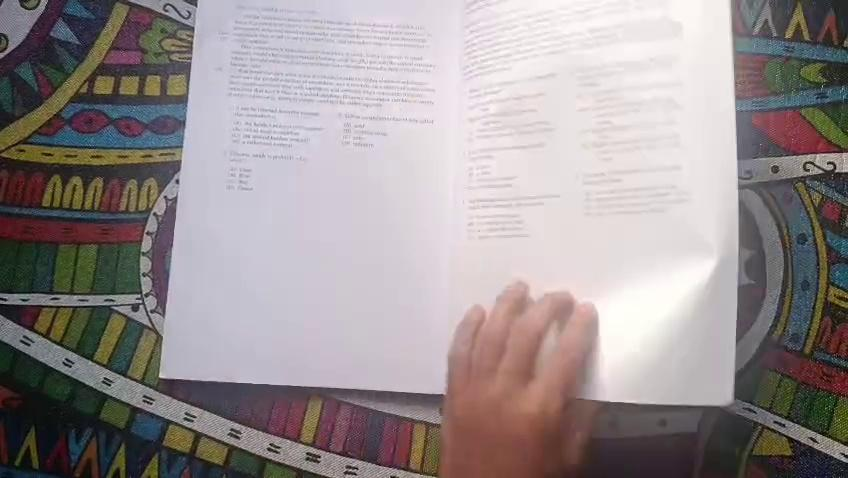Kertas: (202, 2, 462, 378), (462, 0, 735, 281)
